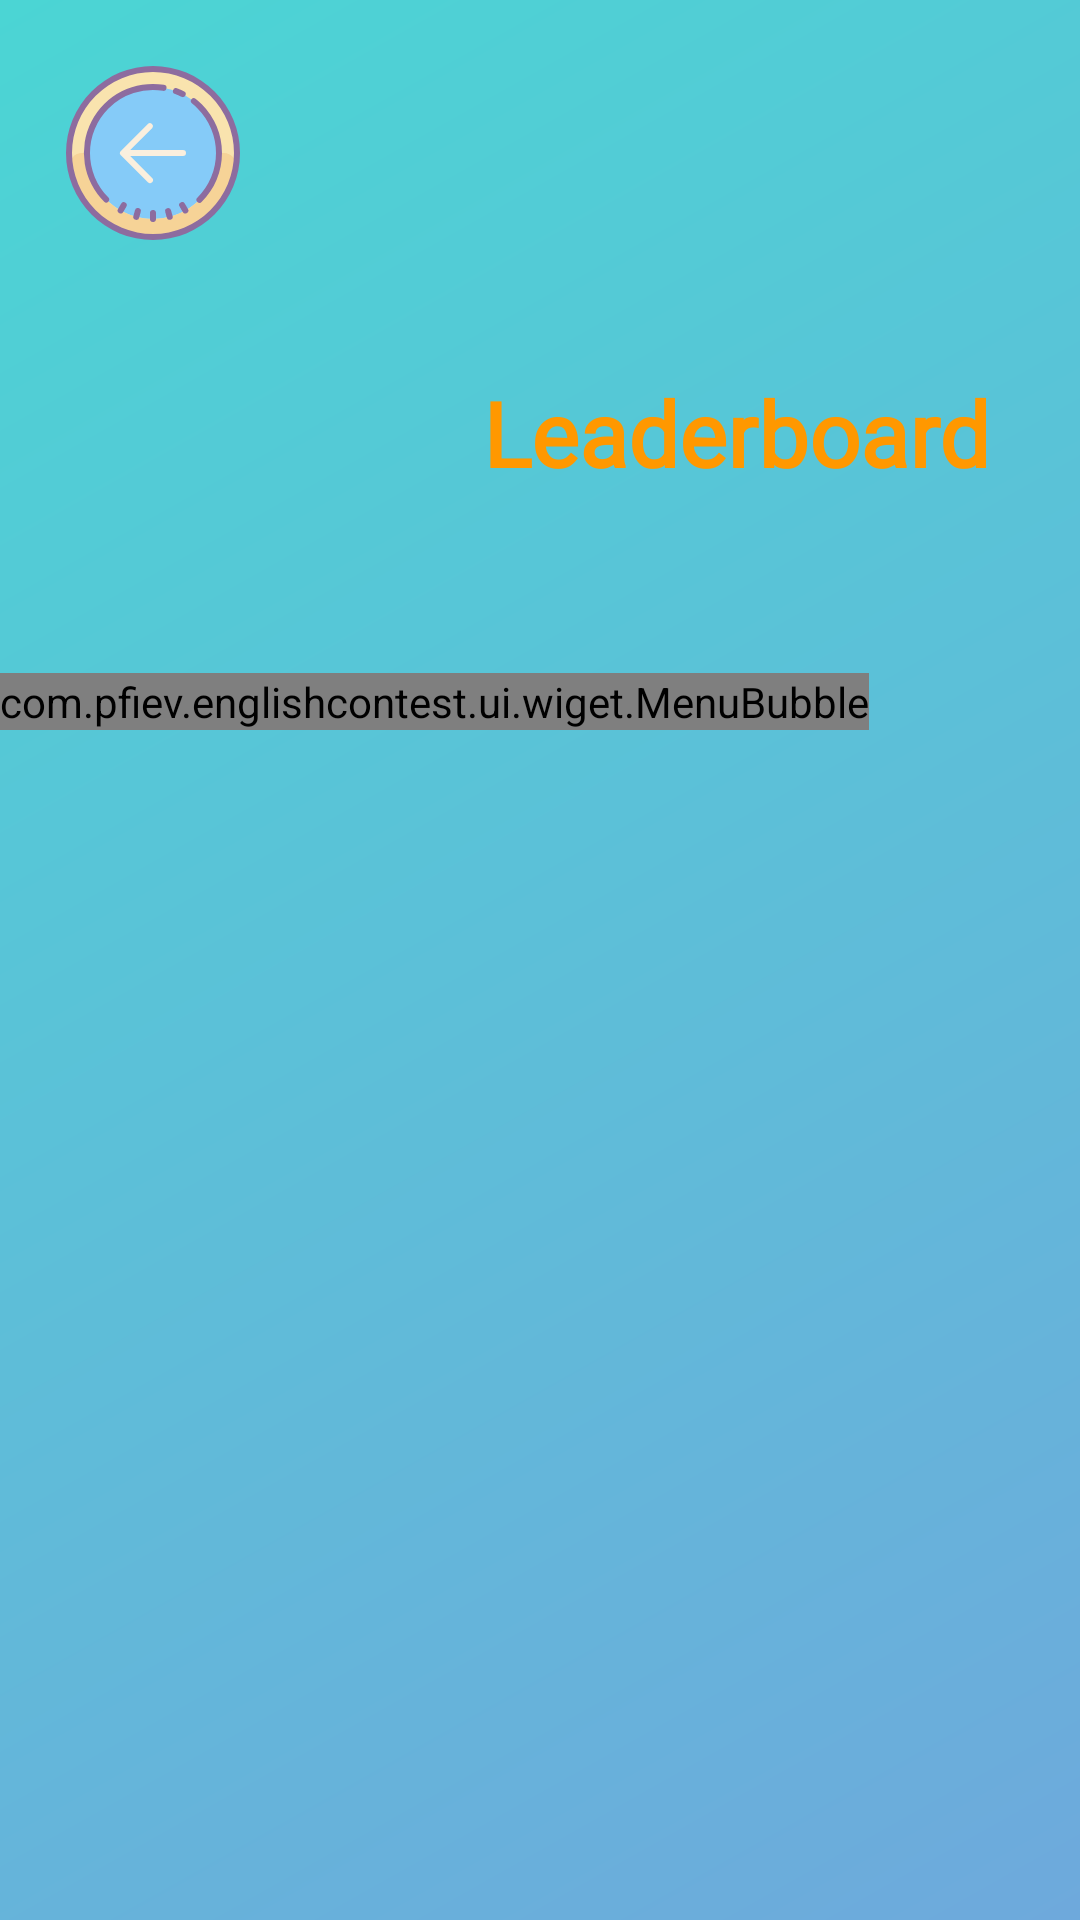

Named icons in this screenshot (1080x1920) and their centers, [x,y]:
Back to main: [153,153]
